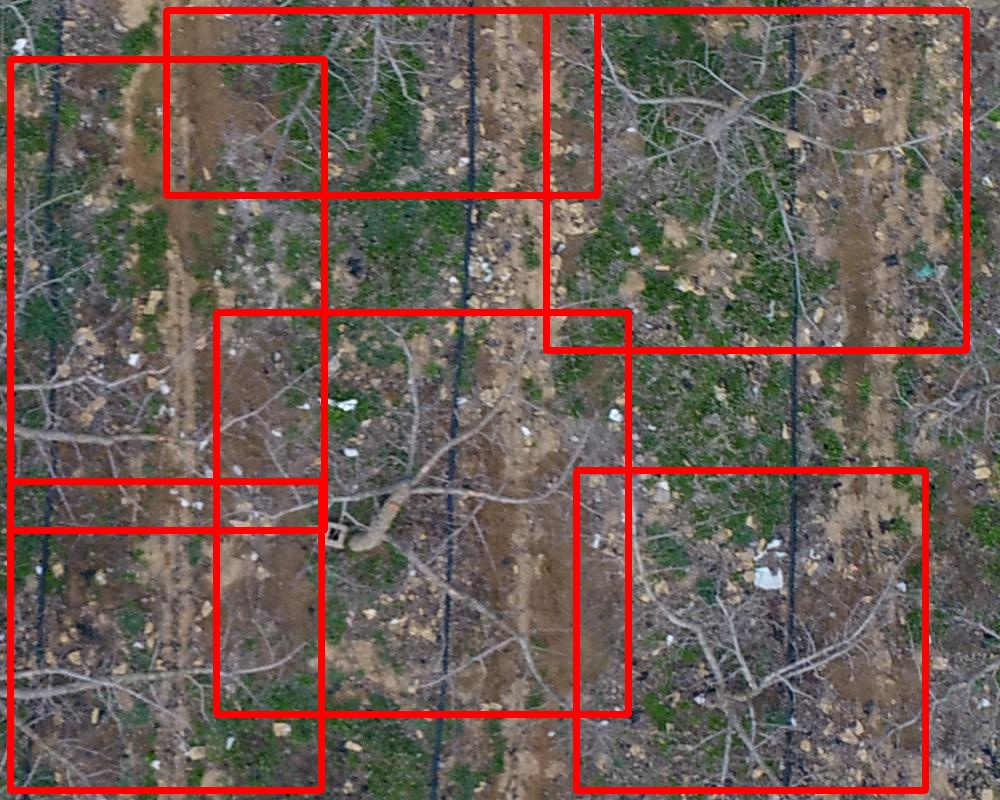apple: (216, 312, 628, 714), (10, 59, 324, 530), (546, 10, 966, 350), (576, 470, 925, 790), (10, 481, 321, 790), (166, 10, 597, 195)
